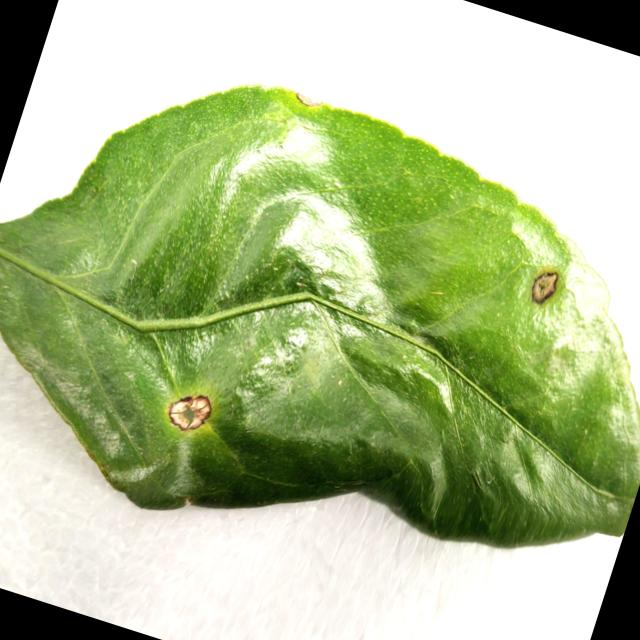antracnose: (0, 87, 640, 546), (168, 395, 211, 431), (532, 272, 558, 304)
